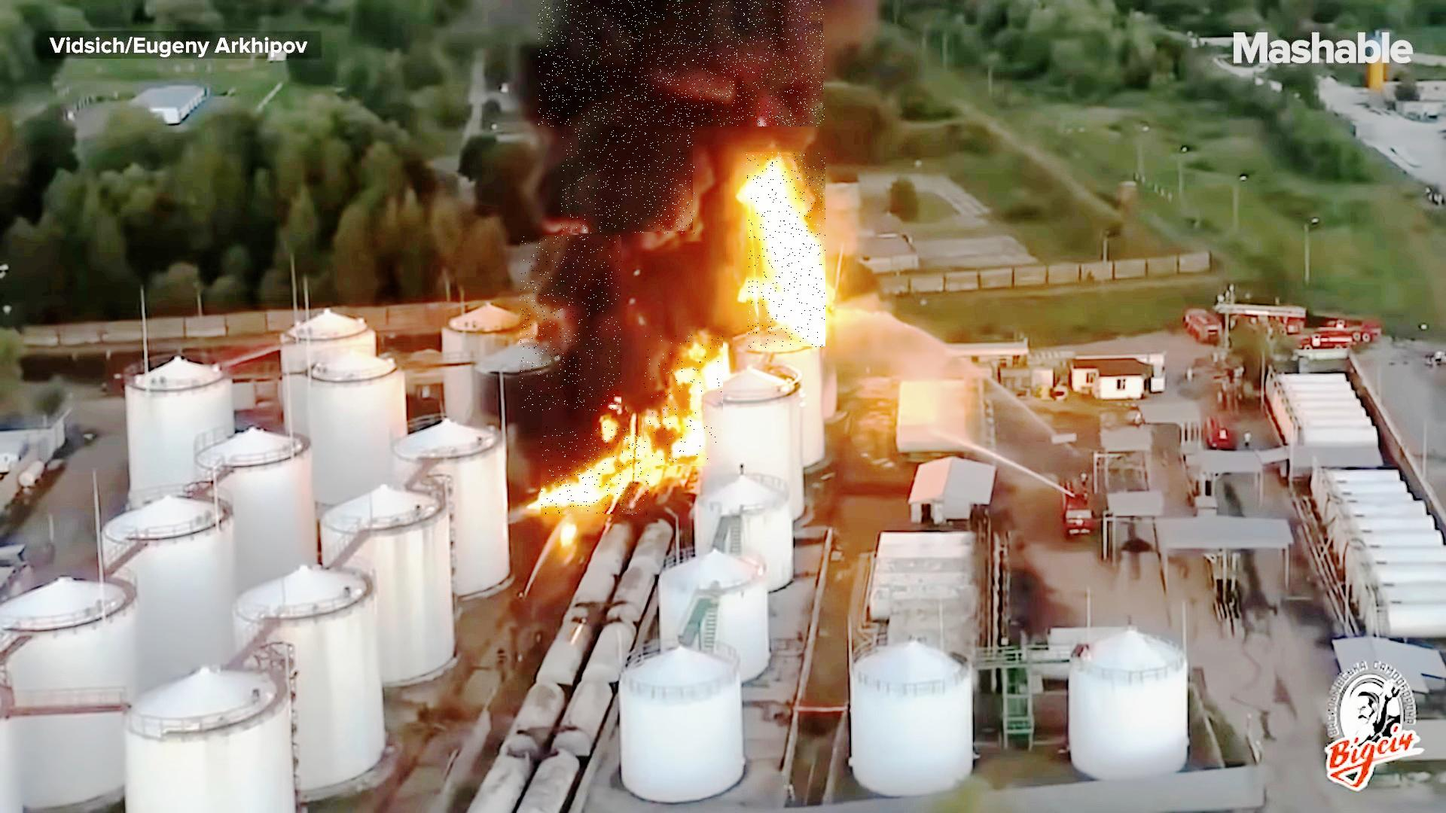fire: (747, 153, 826, 348), (641, 336, 723, 468), (541, 428, 648, 516)
smoke: (538, 0, 825, 126), (562, 2, 695, 234), (520, 235, 622, 412)
